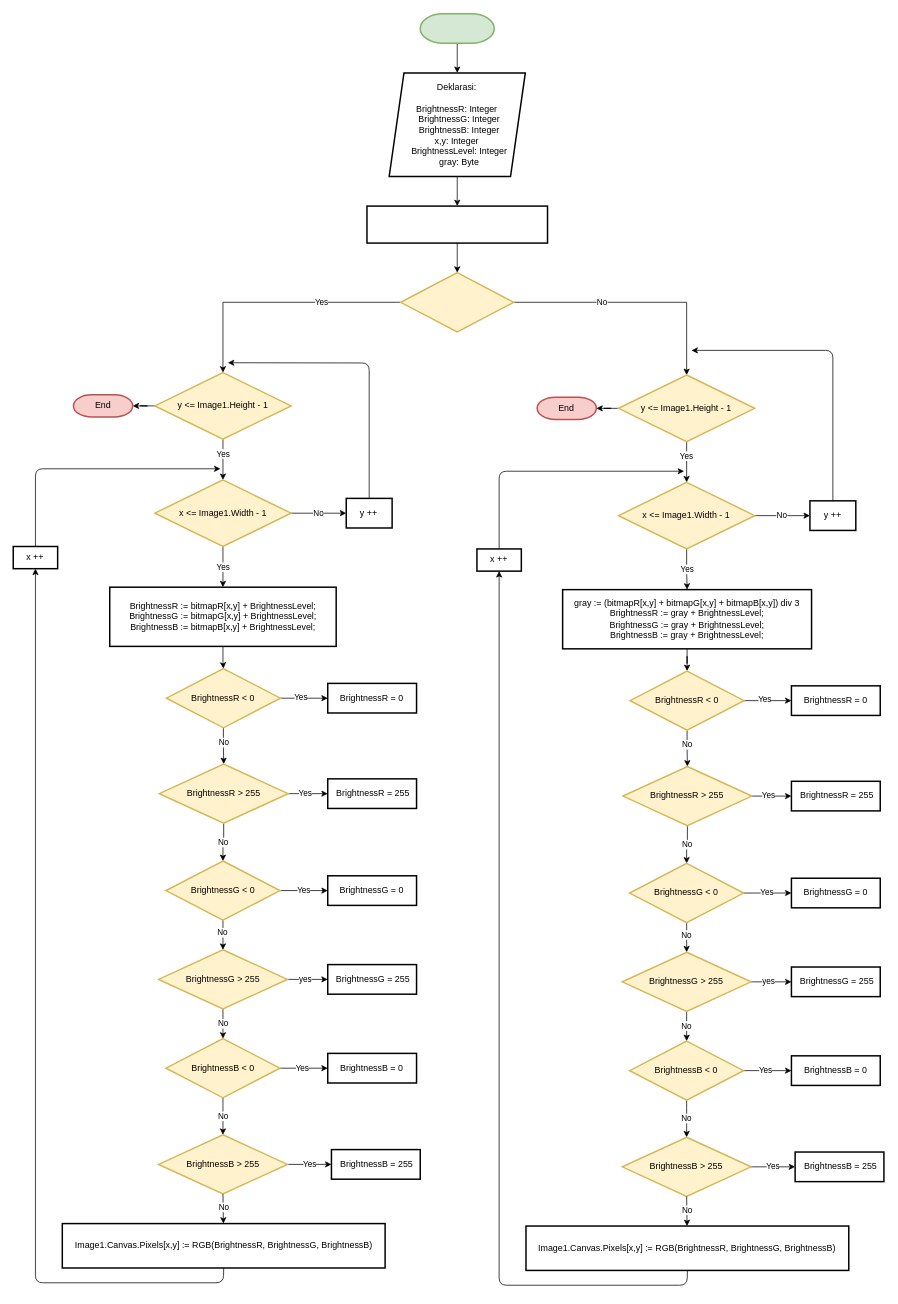
This 898x1304 diagram has some shape labels left out. Here are the shapes that lost their labels. From the top down, the centre of each, then its label:
At point (457, 28): "Start".
At point (457, 224): "BrightnessLevel := trackBright.Position;".
At point (457, 302): "modeWarna: True".
